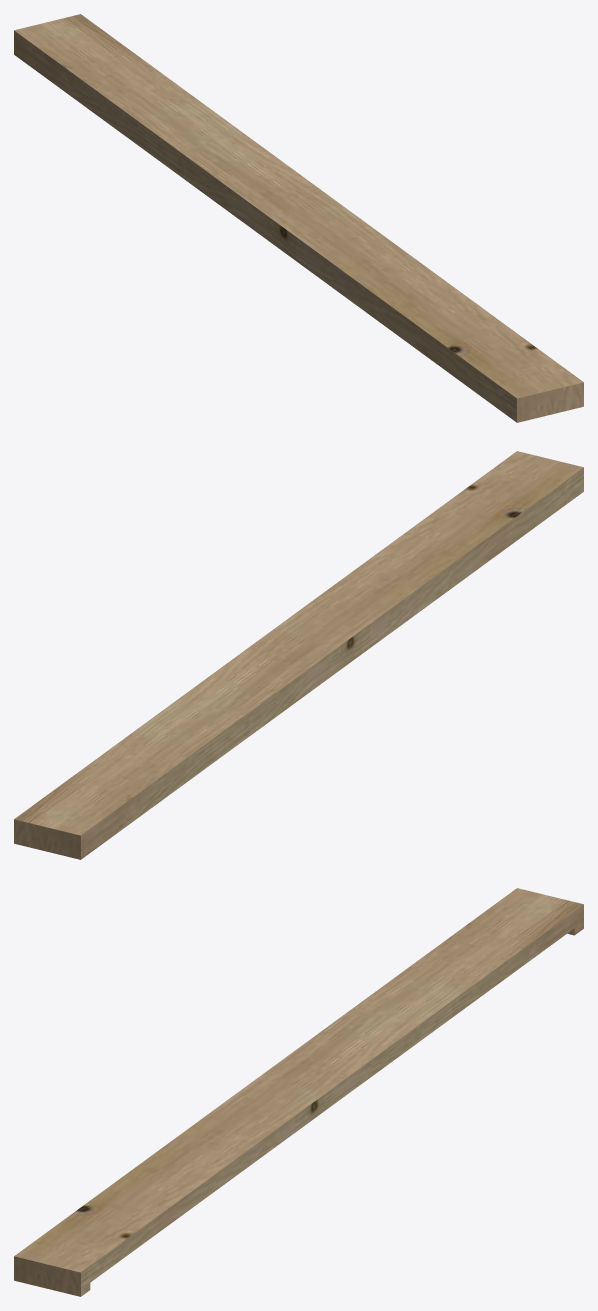
Rendered from Joglo_part_180.fbx.
The picture shows the model from 3 angles, top to bottom: view 1: azimuth 30°, elevation 25°; view 2: azimuth 150°, elevation 25°; view 3: azimuth 330°, elevation 25°; orthographic projection.
Parts seen in each view (by area): view 1: Mesh259_Wood___Pine_Grained_Horizontal_0.001; view 2: Mesh259_Wood___Pine_Grained_Horizontal_0.001; view 3: Mesh259_Wood___Pine_Grained_Horizontal_0.001.
Part boxes in pixels (left/top/right/bottom): Mesh259_Wood___Pine_Grained_Horizontal_0.001: left=14, top=14, right=583, bottom=422; Mesh259_Wood___Pine_Grained_Horizontal_0.001: left=14, top=451, right=583, bottom=859; Mesh259_Wood___Pine_Grained_Horizontal_0.001: left=14, top=888, right=583, bottom=1296.
Size of the model in its own units: 4.53 by 1.57 by 59.05.
